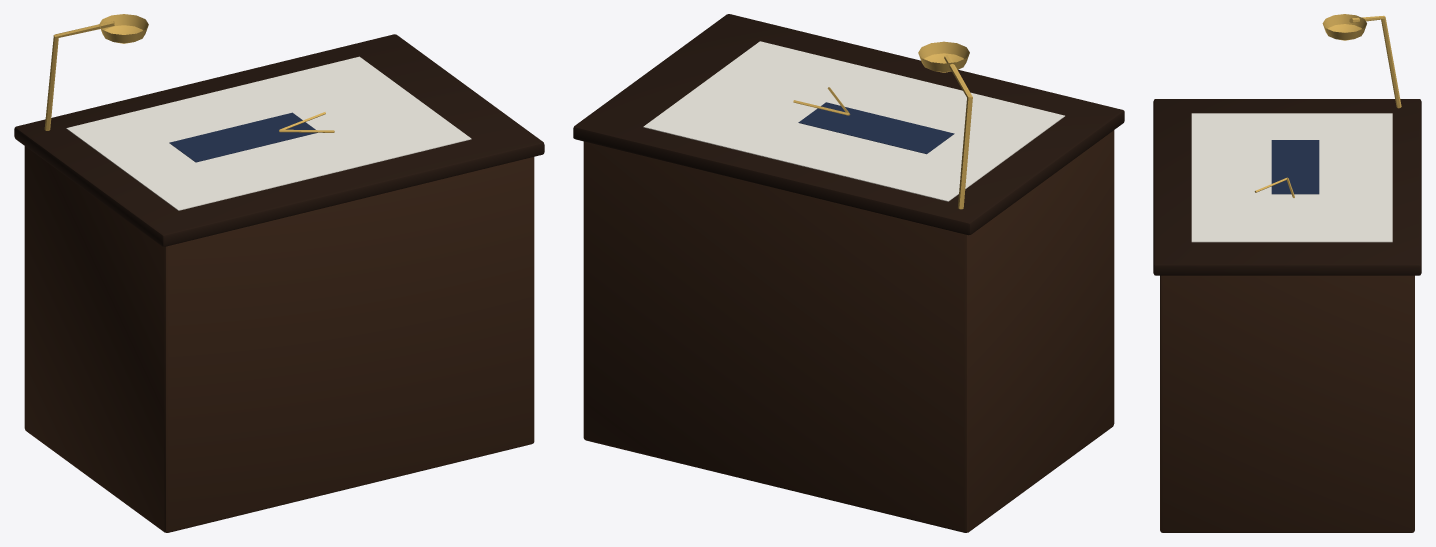
The model's file is marlin_chart_table.glb.
The picture shows the model from 3 angles, left to right: view 1: azimuth 30°, elevation 25°; view 2: azimuth 150°, elevation 25°; view 3: azimuth 270°, elevation 25°; orthographic projection. The views are drawn at different scales.
Visible parts, largest first — view 1: marlin_chart_table; view 2: marlin_chart_table; view 3: marlin_chart_table.
Part boxes in pixels (left/top/right/bottom): marlin_chart_table: left=14, top=14, right=544, bottom=532; marlin_chart_table: left=573, top=14, right=1124, bottom=532; marlin_chart_table: left=1153, top=14, right=1421, bottom=532.
Size of the model in its own units: 1.24 by 1.31 by 0.84.
